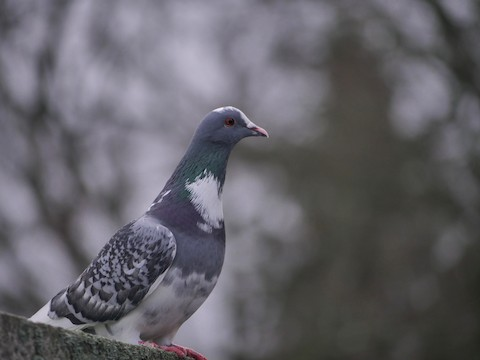pigeon: (9, 101, 275, 347)
